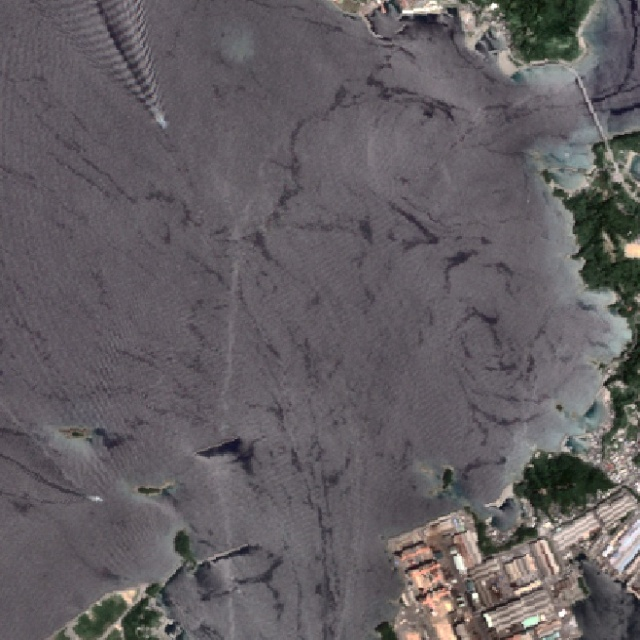wake: (69, 0, 201, 152)
